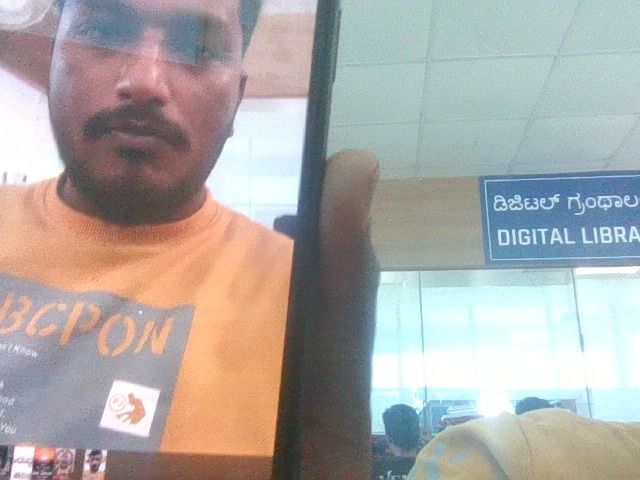fake: (11, 0, 282, 384)
